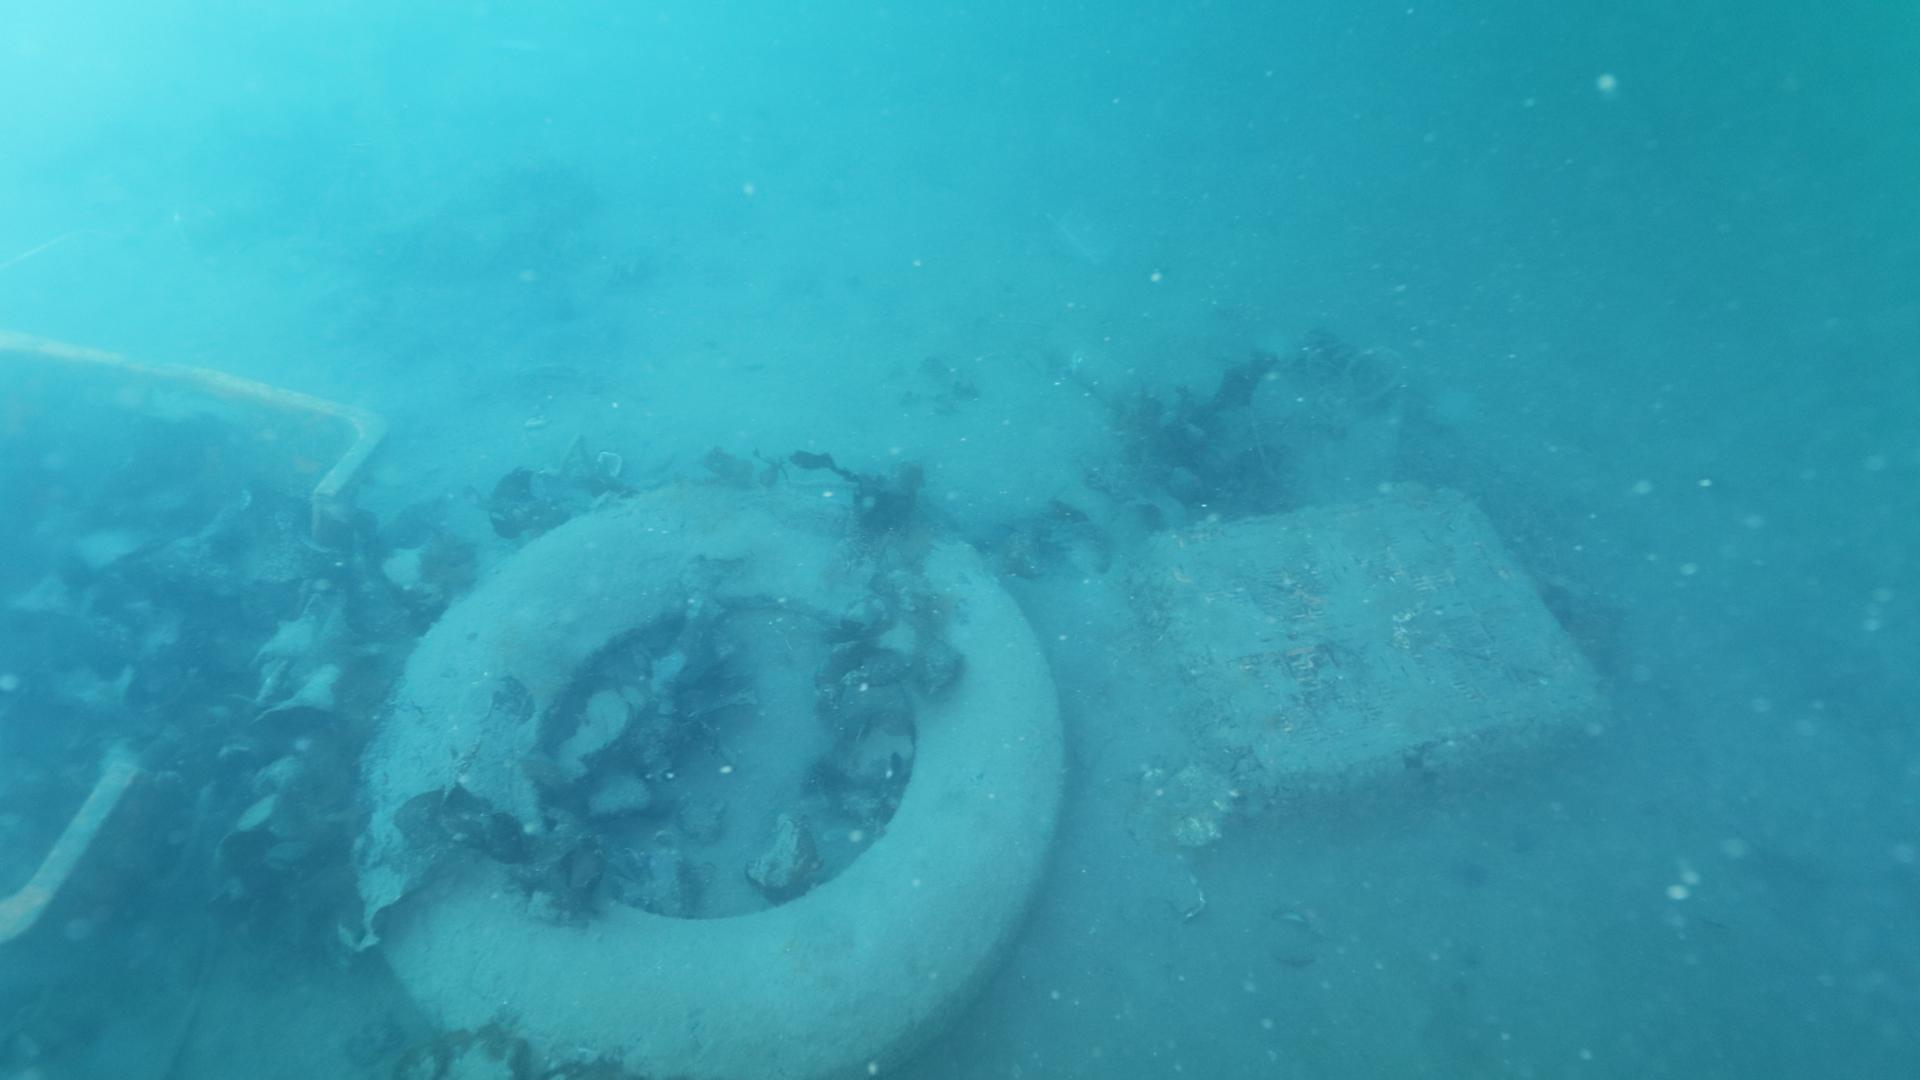tire: (349, 477, 1071, 1080)
